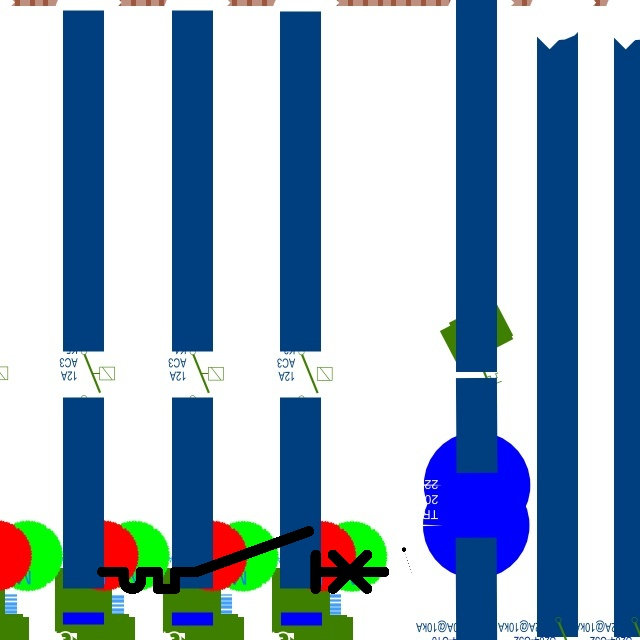interruptor_termomagnetico: (95, 524, 392, 596)
